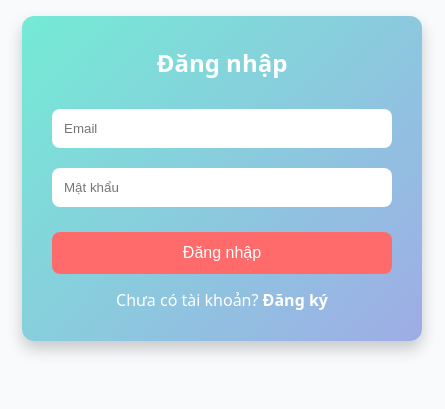
Test case: Login page › logs in and redirects after success
In the field with placeholder "Email": (222, 128) x1=52 y1=109 x2=392 y2=148, type "a@b.com"
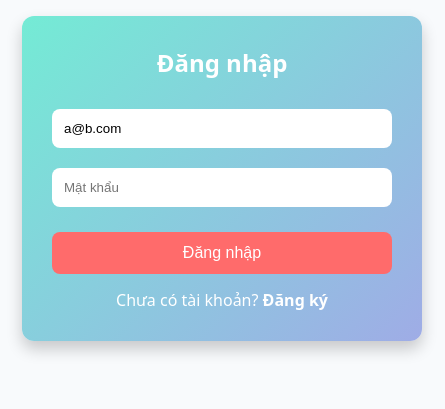
In the password field with placeholder "Mật khẩu": (222, 188) x1=52 y1=168 x2=392 y2=207, type "123456"
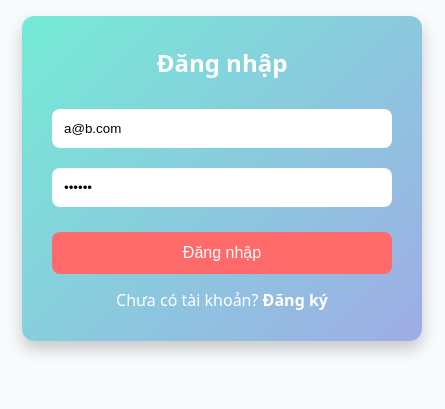
Click the button "Đăng nhập": click(222, 253) x1=52 y1=232 x2=392 y2=274
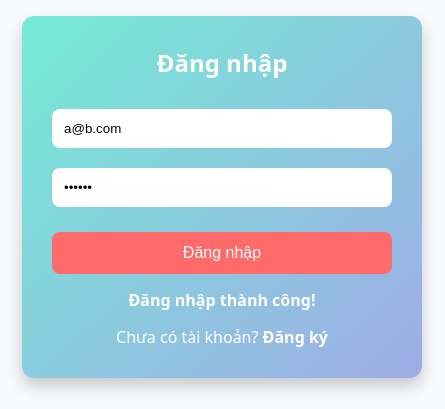
Check: the text "Đăng nhập thành công!" is shown, box x1=128 y1=289 x2=315 y2=311
